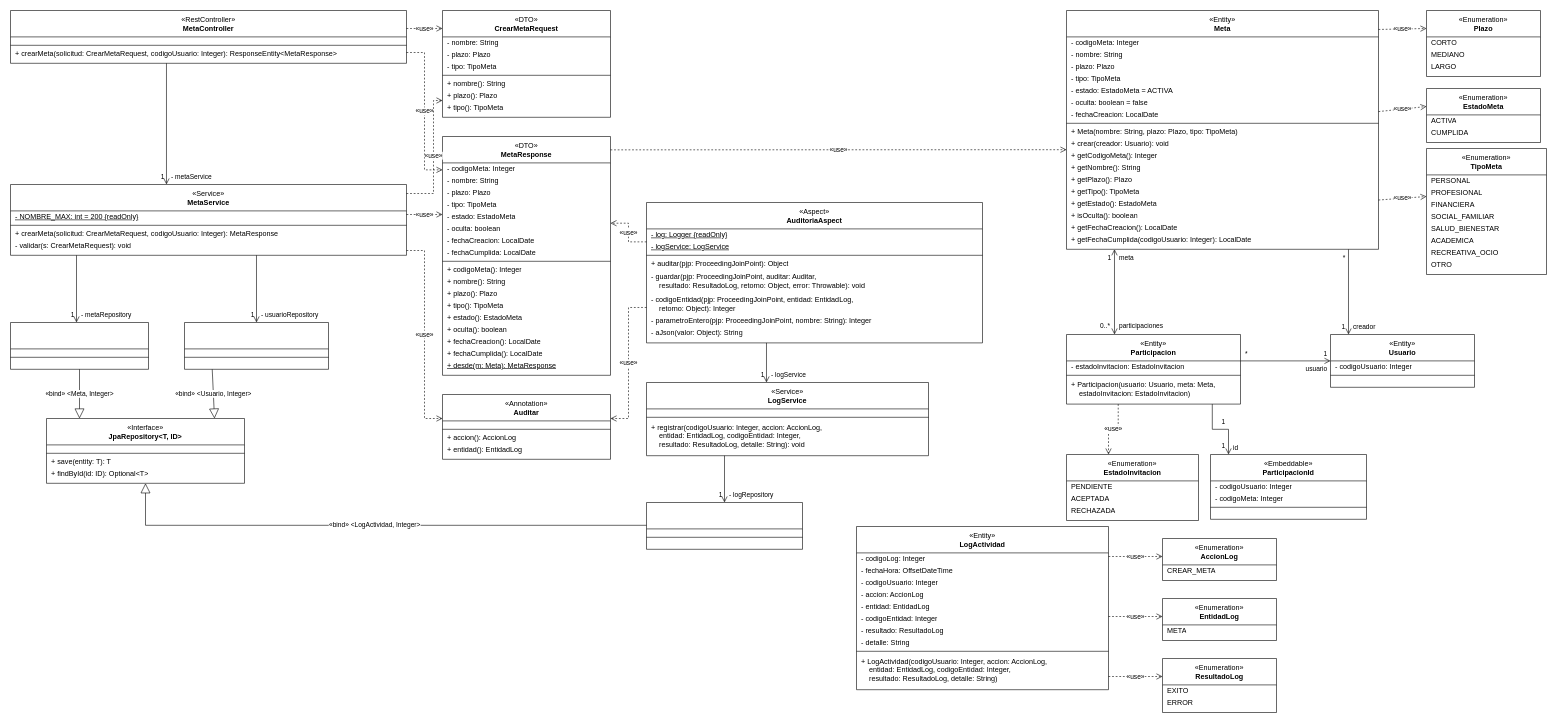
The diagram is 1557 pixels wide and 723 high, and some of its shapes have lost their labels. The centre of each missing label's shape, as x and y in pixels:
"«Repository» LogActividadRepository" goes at (724,525).
"«Repository» MetaRepository" goes at (79,345).
"«Repository» UsuarioRepository" goes at (256,345).
